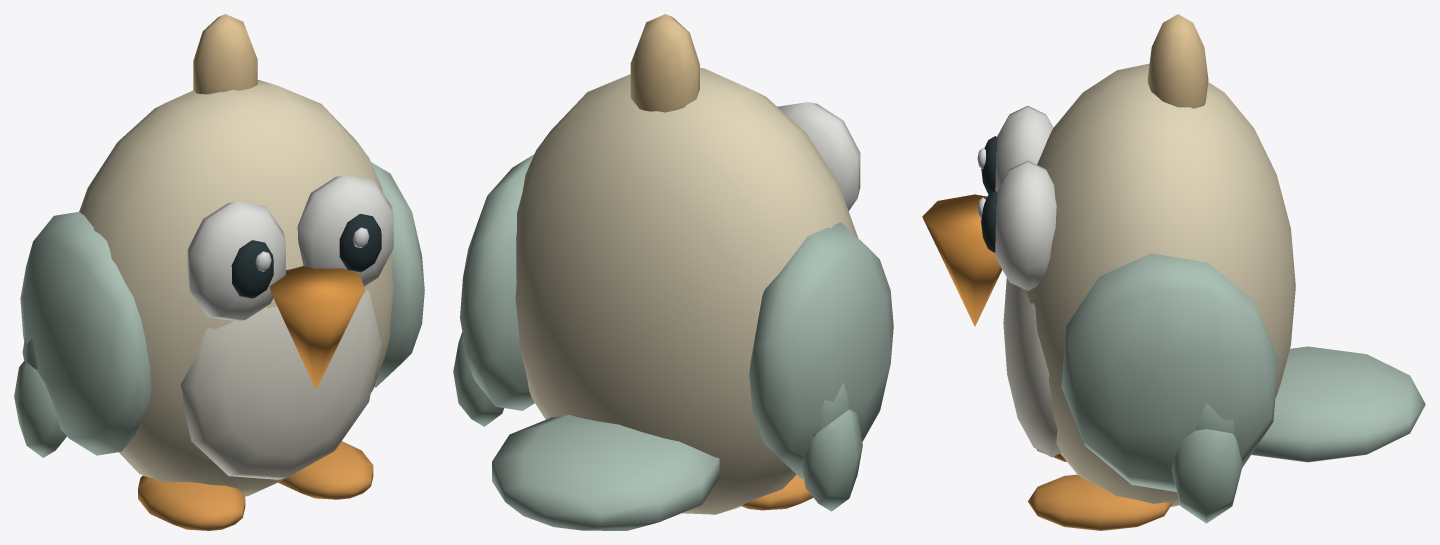
The model's file is audience.glb.
3 views of the same model, side by side, from view 1: azimuth 30°, elevation 25°; view 2: azimuth 150°, elevation 25°; view 3: azimuth 270°, elevation 25° (orthographic). The views are drawn at different scales.
Parts seen in each view (by area): view 1: AudienceBird; view 2: AudienceBird; view 3: AudienceBird.
Boxes of the visible parts, x1,y1,x2,y2 form: AudienceBird: (14, 14, 424, 530); AudienceBird: (453, 14, 893, 530); AudienceBird: (922, 14, 1425, 530).
Bounding box in the file's own units: 1.1 × 1.32 × 1.24.
